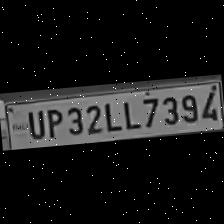2: (82, 100, 104, 135)
3: (62, 102, 84, 137), (158, 92, 180, 124)
4: (196, 86, 218, 122)
7: (137, 94, 159, 130)
9: (177, 90, 199, 124)
L: (116, 96, 138, 131), (101, 98, 120, 132)
P: (43, 104, 64, 138)
U: (22, 106, 44, 140)
